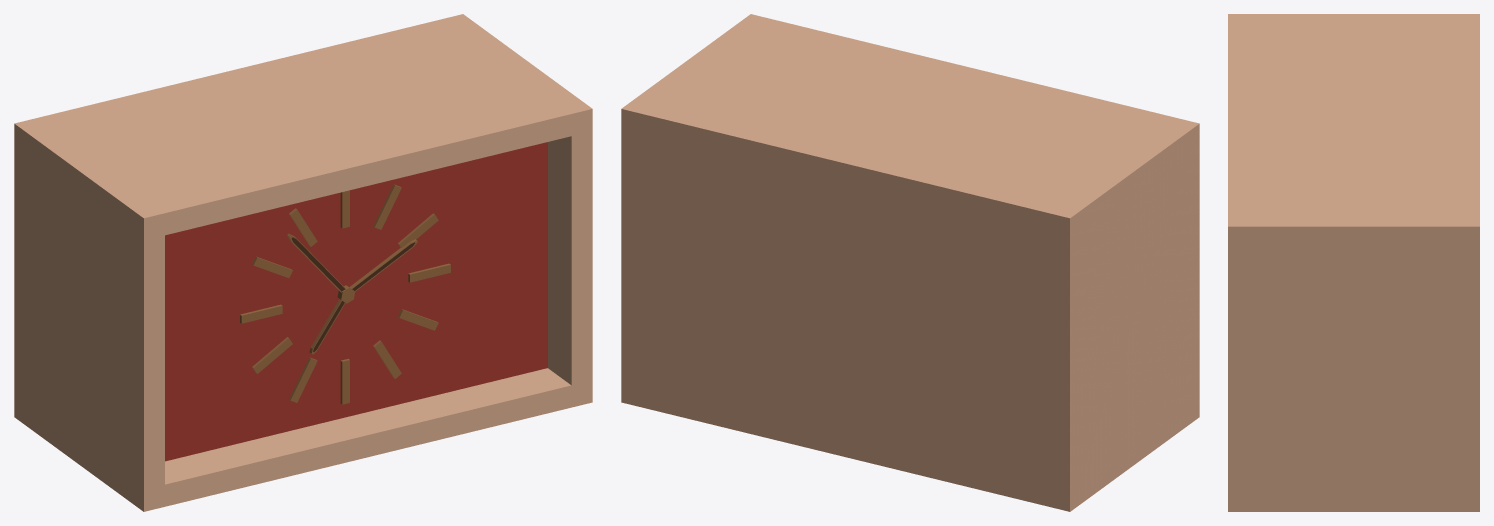
The model's file is FurnAcc_Clock.fbx.
The picture shows the model from 3 angles, left to right: view 1: azimuth 30°, elevation 25°; view 2: azimuth 150°, elevation 25°; view 3: azimuth 270°, elevation 25°; orthographic projection. The views are drawn at different scales.
Parts seen in each view (by area): view 1: FurnAcc_Clock; view 2: FurnAcc_Clock; view 3: FurnAcc_Clock.
Part boxes in pixels (left/top/right/bottom): FurnAcc_Clock: left=14, top=14, right=592, bottom=511; FurnAcc_Clock: left=621, top=14, right=1199, bottom=511; FurnAcc_Clock: left=1228, top=14, right=1479, bottom=511.
Bounding box in the file's own units: 16.81 × 10.51 × 8.41.
